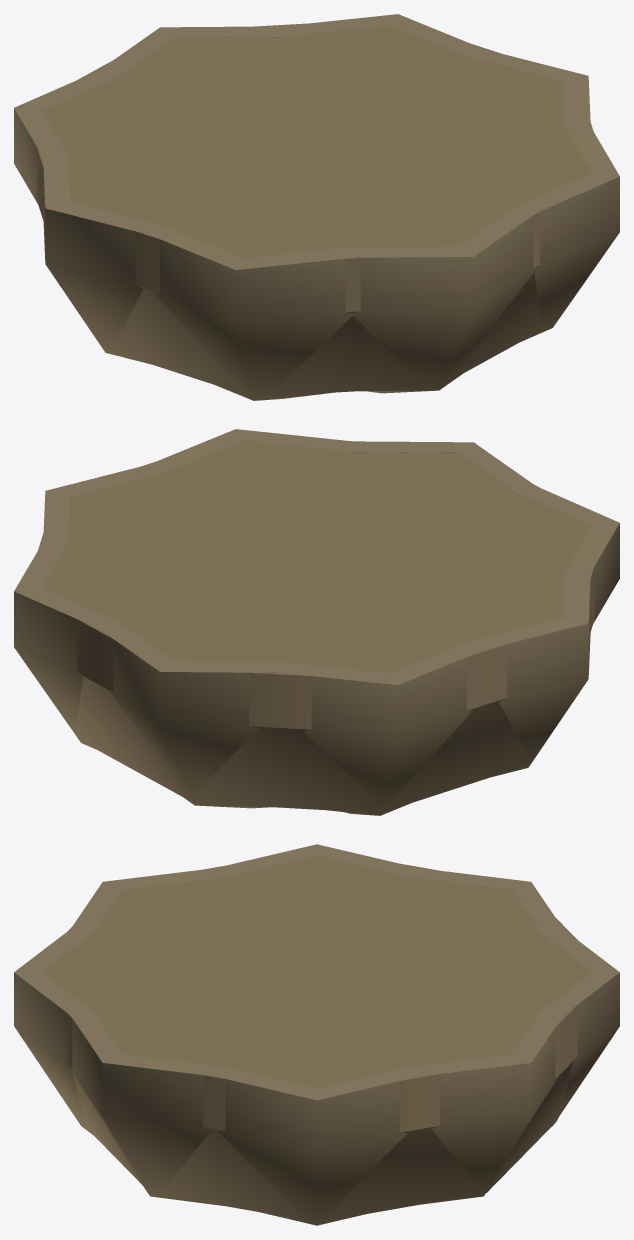
Rendered from ColumnPlanter.fbx.
The picture shows the model from 3 angles, top to bottom: view 1: azimuth 30°, elevation 25°; view 2: azimuth 150°, elevation 25°; view 3: azimuth 270°, elevation 25°; orthographic projection. The views are drawn at different scales.
Visible parts, largest first — view 1: Pilars.011, Planter.007; view 2: Pilars.011, Planter.007; view 3: Pilars.011, Planter.007.
Part boxes in pixels (x1,y1,x2,y2): Pilars.011: [37, 23, 593, 396]; Planter.007: [14, 14, 619, 400]; Pilars.011: [38, 441, 594, 813]; Planter.007: [14, 429, 619, 815]; Pilars.011: [42, 856, 591, 1222]; Planter.007: [14, 844, 619, 1225].
Size of the model in its own units: 1091 by 391 by 1091.
